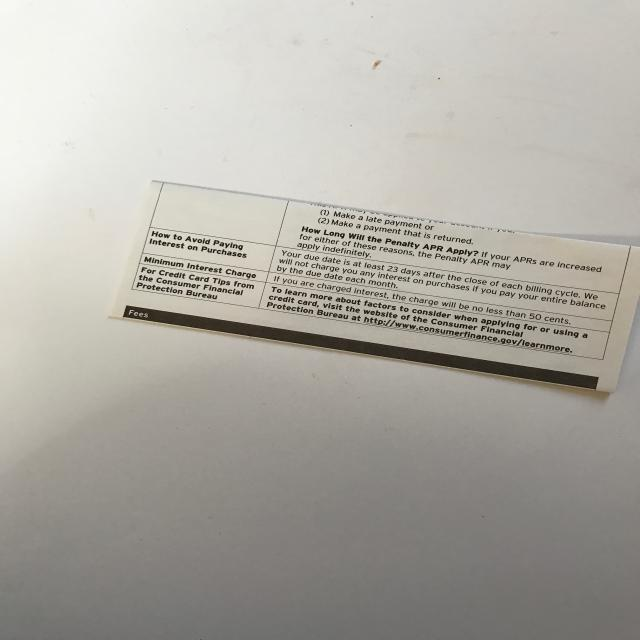paper: (108, 180, 640, 394)
